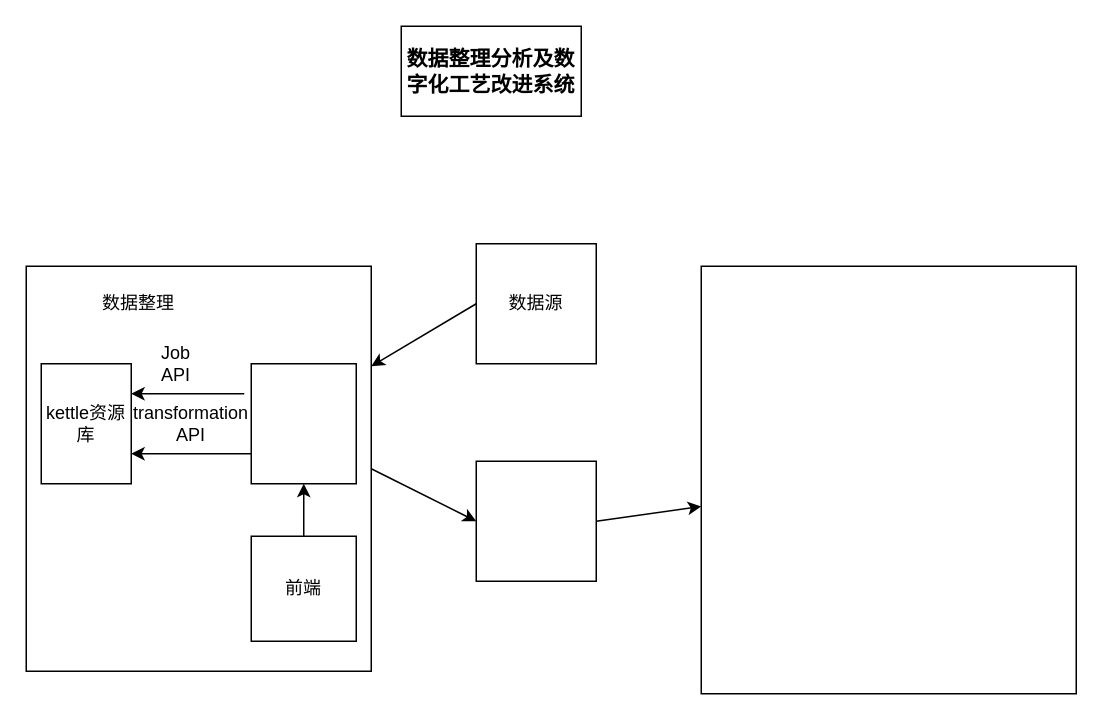
Some shapes in this 1103 by 720 pixel diagram are drawn without their labels. The shapes that lost their labels are listed below. From the top down, each one's centre as x and y in pixels, then its label:
At [303,423]: "后端".
At [535,520]: "目标数据库".
